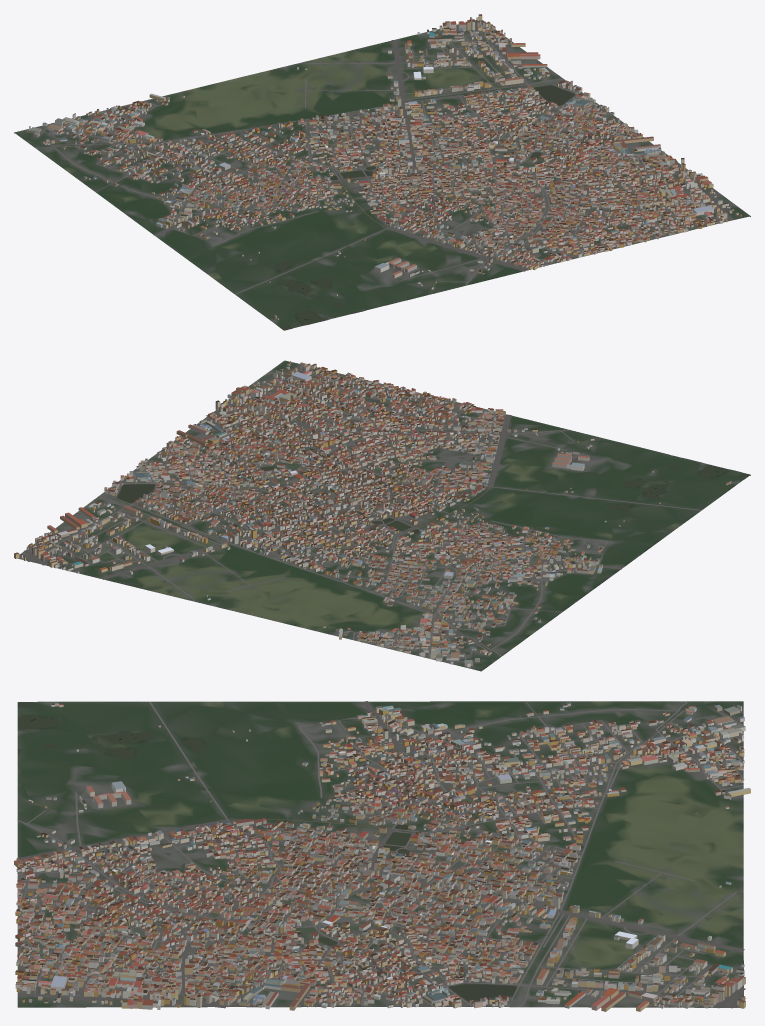
3 views of the same model, one above another, from view 1: azimuth 30°, elevation 25°; view 2: azimuth 150°, elevation 25°; view 3: azimuth 270°, elevation 25° (orthographic). The views are drawn at different scales.
Parts seen in each view (by area): view 1: ground, buildings, roads, water; view 2: ground, buildings, roads, water; view 3: ground, buildings, roads, water.
Boxes of the visible parts, <box> form: ground: <box>14,20,750,330</box>; buildings: <box>29,14,741,319</box>; roads: <box>26,21,733,294</box>; water: <box>271,86,574,330</box>; ground: <box>17,360,750,671</box>; buildings: <box>14,361,732,667</box>; roads: <box>19,365,701,667</box>; water: <box>117,455,749,533</box>; ground: <box>17,701,743,1007</box>; buildings: <box>14,702,750,1011</box>; roads: <box>16,701,745,1008</box>; water: <box>18,702,516,1001</box>.
Bounding box in the file's own units: 1420 × 29.4 × 1423.
